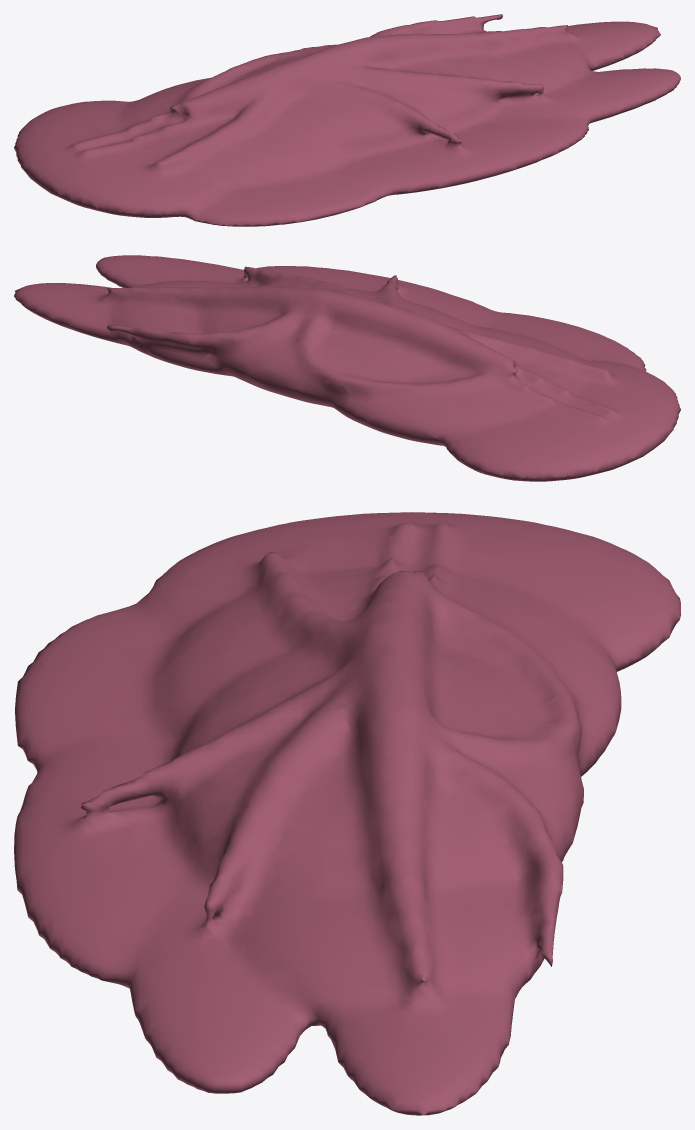
The model's file is plasmodial_tissue_lod0.glb.
3 views of the same model, one above another, from view 1: azimuth 30°, elevation 25°; view 2: azimuth 150°, elevation 25°; view 3: azimuth 270°, elevation 25° (orthographic). The views are drawn at different scales.
Visible parts, largest first — view 1: Watertight_Plasmodium.001; view 2: Watertight_Plasmodium.001; view 3: Watertight_Plasmodium.001.
Boxes of the visible parts, x1,y1,x2,y2 form: Watertight_Plasmodium.001: (14,14,680,226); Watertight_Plasmodium.001: (14,255,680,481); Watertight_Plasmodium.001: (14,512,680,1115).
Size of the model in its own units: 5.91 by 0.8076 by 2.81.
